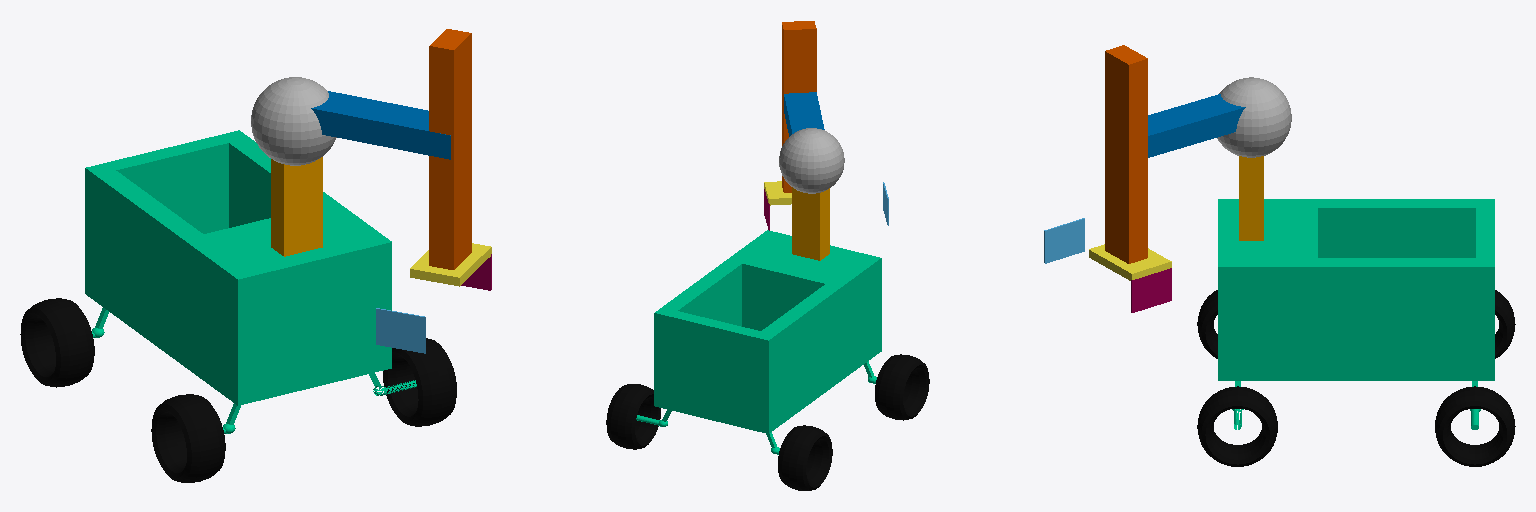
robot.urdf — probando:
<?xml version="1.0"?>
<!-- created with Phobos 1.0.1 "Capricious Choutengan" -->
  <robot name="probando">

    <link name="Barra_principal">
      <inertial>
        <origin xyz="0 0 -0.5" rpy="0 0 0"/>
        <mass value="30.0"/>
        <inertia ixx="0.001" ixy="0" ixz="0" iyy="0.001" iyz="0" izz="0.001"/>
      </inertial>
      <visual name="Cube.001">
        <origin xyz="0 0 -0.11" rpy="0 0 0"/>
        <geometry>
          <box size="0.5 0.3 2.41"/>
        </geometry>
      </visual>
      <collision name="Cube.001">
        <origin xyz="0 0 -0.1" rpy="0 0 0"/>
        <geometry>
          <box size="0.5 0.3 2.41"/>
        </geometry>
      </collision>
    </link>

    <link name="Pinza_L">
      <inertial>
        <origin xyz="0 0 -0.03" rpy="0 0 0"/>
        <mass value="15.51"/>
        <inertia ixx="0.001" ixy="0" ixz="0" iyy="0.001" iyz="0" izz="0.001"/>
      </inertial>
      <visual name="Cube.005">
        <origin xyz="0 0 0" rpy="0 0 0"/>
        <geometry>
          <box size="0.45 0.61 0.02"/>
        </geometry>
      </visual>
      <collision name="Cube.005">
        <origin xyz="0 0 0" rpy="3.14159 0 0"/>
        <geometry>
          <box size="0.45 0.61 0.02"/>
        </geometry>
      </collision>
    </link>

    <link name="Pinza_R">
      <inertial>
        <origin xyz="0 0 0.15" rpy="0 0 0"/>
        <mass value="15.51"/>
        <inertia ixx="0.001" ixy="0" ixz="0" iyy="0.001" iyz="0" izz="0.001"/>
      </inertial>
      <visual name="Cube">
        <origin xyz="0 0 0" rpy="0 0 0"/>
        <geometry>
          <box size="0.45 0.61 0.02"/>
        </geometry>
        <material name="Material.002"/>
      </visual>
      <collision name="Cube">
        <origin xyz="0 0 0" rpy="0 0 0"/>
        <geometry>
          <box size="0.45 0.61 0.02"/>
        </geometry>
      </collision>
    </link>

    <link name="Untitled.002">
      <inertial>
        <origin xyz="0 0 0" rpy="0 0 0"/>
        <mass value="0.001"/>
        <inertia ixx="0.001" ixy="0" ixz="0" iyy="0.001" iyz="0" izz="0.001"/>
      </inertial>
      <visual name="Cube.004">
        <origin xyz="0 0 0" rpy="0 0 0"/>
        <geometry>
          <box size="0.9 0.61 0.11"/>
        </geometry>
      </visual>
      <collision name="Cube.004">
        <origin xyz="0 0 0" rpy="0 0 0"/>
        <geometry>
          <box size="0.9 0.61 0.11"/>
        </geometry>
      </collision>
    </link>

    <link name="barra_gira">
      <inertial>
        <origin xyz="0 0 0" rpy="0 0 0"/>
        <mass value="30.0"/>
        <inertia ixx="0.001" ixy="0" ixz="0" iyy="0.001" iyz="0" izz="0.001"/>
      </inertial>
      <visual name="Cube.002">
        <origin xyz="-0.90353 0 0" rpy="0 -1.5708 0"/>
        <geometry>
          <box size="0.5 0.30001 2.17"/>
        </geometry>
      </visual>
      <collision name="Cube.002">
        <origin xyz="-0.90353 0 0" rpy="0 -1.5708 0"/>
        <geometry>
          <box size="0.5 0.3 2.17"/>
        </geometry>
      </collision>
    </link>

    <link name="barra_pinza">
      <inertial>
        <origin xyz="0 0 0.15" rpy="0 0 0"/>
        <mass value="20.0"/>
        <inertia ixx="0.001" ixy="0" ixz="0" iyy="0.001" iyz="0" izz="0.001"/>
      </inertial>
      <visual name="Cube.003">
        <origin xyz="-0.05 -0.03 0.66272" rpy="0 0 0"/>
        <geometry>
          <box size="0.5 0.3 2.74"/>
        </geometry>
      </visual>
      <collision name="Cube.003">
        <origin xyz="-0.05 -0.03 0.66272" rpy="0 0 0"/>
        <geometry>
          <box size="0.5 0.3 2.7"/>
        </geometry>
      </collision>
    </link>

    <link name="coche">
      <inertial>
        <origin xyz="0 0 -0.0021" rpy="0 0 0"/>
        <mass value="10000.0"/>
        <inertia ixx="114.54339" ixy="2.59267" ixz="-7.60408" iyy="45.98467" iyz="7.01369" izz="128.17601"/>
      </inertial>
      <visual name="car">
        <origin xyz="0 0 0" rpy="0 0 0"/>
        <geometry>
          <mesh filename="../meshes/dae/Cube.dae" scale="1.0 1.715 0.78246"/>
        </geometry>
        <material name="Material"/>
      </visual>
      <collision name="car.000">
        <origin xyz="0 0 -0.0021" rpy="0 0 0"/>
        <geometry>
          <mesh filename="../meshes/dae/Cube.016.dae" scale="1.0 1.0 1.0"/>
        </geometry>
      </collision>
    </link>

    <link name="esfera">
      <inertial>
        <origin xyz="0 0 0" rpy="0 0 0"/>
        <mass value="30.0"/>
        <inertia ixx="0.001" ixy="0" ixz="0" iyy="0.001" iyz="0" izz="0.001"/>
      </inertial>
      <visual name="Sphere">
        <origin xyz="0 0 0" rpy="0 0 0"/>
        <geometry>
          <mesh filename="../meshes/dae/Sphere.dae" scale="0.5 0.5 0.5"/>
        </geometry>
      </visual>
      <collision name="Sphere">
        <origin xyz="0 0 0" rpy="0 0 0"/>
        <geometry>
          <sphere radius="0.5"/>
        </geometry>
      </collision>
    </link>

    <link name="rueda1">
      <inertial>
        <origin xyz="0 0 0" rpy="0 0 0"/>
        <mass value="10.0"/>
        <inertia ixx="0.18726" ixy="0" ixz="0" iyy="0.09682" iyz="0" izz="3.78202"/>
      </inertial>
      <visual name="rueda3.001">
        <origin xyz="0 0 0" rpy="0 0 0"/>
        <geometry>
          <mesh filename="../meshes/dae/Torus.007.dae" scale="0.4 0.4 1.0"/>
        </geometry>
        <material name="rueda"/>
      </visual>
      <collision name="rueda3.001.000">
        <origin xyz="0 0 0" rpy="0 0 0"/>
        <geometry>
          <mesh filename="../meshes/dae/Torus.001.dae" scale="1.0 1.0 1.0"/>
        </geometry>
      </collision>
    </link>

    <link name="rueda2">
      <inertial>
        <origin xyz="0 0 0" rpy="0 0 0"/>
        <mass value="10.0"/>
        <inertia ixx="1.17034" ixy="0" ixz="0" iyy="0.70986" iyz="0" izz="0.70986"/>
      </inertial>
      <visual name="rueda4.001">
        <origin xyz="0 0 0" rpy="0 0 0"/>
        <geometry>
          <mesh filename="../meshes/dae/Torus.008.dae" scale="0.4 0.4 1.0"/>
        </geometry>
        <material name="rueda"/>
      </visual>
      <collision name="rueda4.001.000">
        <origin xyz="0 0 0" rpy="0 0 0"/>
        <geometry>
          <mesh filename="../meshes/dae/Torus.000.dae" scale="1.0 1.0 1.0"/>
        </geometry>
      </collision>
    </link>

    <link name="rueda3">
      <inertial>
        <origin xyz="0 0 0" rpy="0 0 0"/>
        <mass value="10.0"/>
        <inertia ixx="1.17034" ixy="0" ixz="0" iyy="0.70986" iyz="0" izz="0.70986"/>
      </inertial>
      <visual name="rueda2.001">
        <origin xyz="0 0 0" rpy="0 0 0"/>
        <geometry>
          <mesh filename="../meshes/dae/Torus.003.dae" scale="0.4 0.4 1.0"/>
        </geometry>
        <material name="rueda"/>
      </visual>
      <collision name="rueda2.001.000">
        <origin xyz="0 0 0" rpy="0 0 0"/>
        <geometry>
          <mesh filename="../meshes/dae/Torus.004.dae" scale="1.0 1.0 1.0"/>
        </geometry>
      </collision>
    </link>

    <link name="rueda4">
      <inertial>
        <origin xyz="0 0 0" rpy="0 0 0"/>
        <mass value="10.0"/>
        <inertia ixx="1.17034" ixy="0" ixz="0" iyy="0.70986" iyz="0" izz="0.70986"/>
      </inertial>
      <visual name="rueda1.001">
        <origin xyz="0 0 0" rpy="0 0 0"/>
        <geometry>
          <mesh filename="../meshes/dae/Torus.006.dae" scale="0.4 0.4 1.0"/>
        </geometry>
        <material name="rueda"/>
      </visual>
      <collision name="rueda1.001.000">
        <origin xyz="0 0 0" rpy="0 0 0"/>
        <geometry>
          <mesh filename="../meshes/dae/Torus.002.dae" scale="1.0 1.0 1.0"/>
        </geometry>
      </collision>
    </link>

    <joint name="Barra_principal" type="prismatic">
      <origin xyz="0 -1.3 1.50313" rpy="0 0 0"/>
      <parent link="coche"/>
      <child link="Barra_principal"/>
      <axis xyz="0 0 1.0"/>
      <limit lower="-0.82" upper="0.5" effort="0" velocity="0"/>
    </joint>

    <joint name="Pinza_L" type="prismatic">
      <origin xyz="-0.39871 0.01611 -0.26543" rpy="3.14159 1.5708 0"/>
      <parent link="Untitled.002"/>
      <child link="Pinza_L"/>
      <axis xyz="0 0 1.0"/>
      <limit lower="1.92" upper="0.03" effort="0" velocity="0"/>
    </joint>

    <joint name="Pinza_R" type="prismatic">
      <origin xyz="0.44 0 -0.26" rpy="0 1.5708 0"/>
      <parent link="Untitled.002"/>
      <child link="Pinza_R"/>
      <axis xyz="0 0 1.0"/>
      <limit lower="-0.15" upper="0" effort="0" velocity="0"/>
    </joint>

    <joint name="Untitled.002" type="floating">
      <origin xyz="0 -0.01222 -0.7498" rpy="0 0 0"/>
      <parent link="barra_pinza"/>
      <child link="Untitled.002"/>
    </joint>

    <joint name="barra_gira" type="fixed">
      <origin xyz="0.03695 -0.02274 0.17047" rpy="1.5708 0 2.18414"/>
      <parent link="esfera"/>
      <child link="barra_gira"/>
    </joint>

    <joint name="barra_pinza" type="prismatic">
      <origin xyz="-1.83756 -0.82282 0.05342" rpy="-1.5708 -1.54235 0"/>
      <parent link="barra_gira"/>
      <child link="barra_pinza"/>
      <axis xyz="0 0 1.0"/>
      <limit lower="-1.17" upper="0.9" effort="0" velocity="0"/>
    </joint>

    <joint name="esfera" type="continuous">
      <origin xyz="-0.01713 0.0009 0.84188" rpy="0 0 0"/>
      <parent link="Barra_principal"/>
      <child link="esfera"/>
      <axis xyz="0 0 1.0"/>
      <limit effort="0" velocity="0"/>
    </joint>

    <joint name="rueda1" type="continuous">
      <origin xyz="1.5 1.47 -1.17" rpy="0 1.5708 0"/>
      <parent link="coche"/>
      <child link="rueda1"/>
      <axis xyz="0 0 1.0"/>
      <limit effort="0" velocity="0"/>
    </joint>

    <joint name="rueda2" type="continuous">
      <origin xyz="1.5 -1.47 -1.17" rpy="0 1.5708 0"/>
      <parent link="coche"/>
      <child link="rueda2"/>
      <axis xyz="0 0 1.0"/>
      <limit effort="0" velocity="0"/>
    </joint>

    <joint name="rueda3" type="continuous">
      <origin xyz="-1.5 1.47 -1.17" rpy="0 1.5708 0"/>
      <parent link="coche"/>
      <child link="rueda3"/>
      <axis xyz="0 0 1.0"/>
      <limit effort="0" velocity="0"/>
    </joint>

    <joint name="rueda4" type="continuous">
      <origin xyz="-1.5 -1.47 -1.17" rpy="0 1.5708 0"/>
      <parent link="coche"/>
      <child link="rueda4"/>
      <axis xyz="0 0 1.0"/>
      <limit effort="0" velocity="0"/>
    </joint>

    <material name="Material">
      <color rgba="0 0.8 0.58463 1.0"/>
    </material>

    <material name="Material.002">
      <color rgba="0.64 0.0277 0.35646 1.0"/>
    </material>

    <material name="rueda">
      <color rgba="0.08037 0.08037 0.08037 1.0"/>
    </material>

  </robot>

--- Render facts (derived) ---
Views: 3 orthographic renders of the robot side by side, from view 1: azimuth 30°, elevation 25°; view 2: azimuth 150°, elevation 25°; view 3: azimuth 270°, elevation 25°.
Model probando with 12 links and 11 joints (5 continuous, 4 prismatic, 1 fixed, 1 floating), rooted at coche, posed all joints at 0 but 1 set to mid-range because 0 is outside their limits (Pinza_L = 0.975).
Visible links, largest first — view 1: coche, barra_pinza, esfera, barra_gira, rueda4, rueda3, rueda2, Barra_principal, Pinza_L, Untitled.002, Pinza_R; view 2: coche, esfera, rueda3, rueda4, barra_pinza, rueda1, Barra_principal, barra_gira; view 3: coche, barra_pinza, esfera, rueda2, rueda1, barra_gira, Barra_principal, Pinza_L, Untitled.002, Pinza_R, rueda4, rueda3.
Boxes of the visible links, left/top/right/bottom form: coche: left=85, top=130, right=416, bottom=433; barra_pinza: left=429, top=29, right=471, bottom=269; esfera: left=251, top=77, right=336, bottom=165; barra_gira: left=311, top=91, right=450, bottom=159; rueda4: left=151, top=394, right=225, bottom=482; rueda3: left=20, top=298, right=94, bottom=387; rueda2: left=383, top=338, right=456, bottom=426; Barra_principal: left=271, top=157, right=322, bottom=256; Pinza_L: left=376, top=308, right=425, bottom=353; Untitled.002: left=410, top=243, right=491, bottom=286; Pinza_R: left=461, top=254, right=491, bottom=290; coche: left=636, top=230, right=881, bottom=454; esfera: left=779, top=128, right=844, bottom=193; rueda3: left=778, top=425, right=832, bottom=490; rueda4: left=875, top=354, right=929, bottom=420; barra_pinza: left=782, top=21, right=816, bottom=192; rueda1: left=606, top=384, right=660, bottom=449; Barra_principal: left=792, top=187, right=829, bottom=260; barra_gira: left=784, top=92, right=824, bottom=136; coche: left=1218, top=199, right=1494, bottom=429; barra_pinza: left=1105, top=45, right=1147, bottom=263; esfera: left=1217, top=77, right=1291, bottom=157; rueda2: left=1197, top=386, right=1277, bottom=466; rueda1: left=1435, top=386, right=1515, bottom=466; barra_gira: left=1148, top=94, right=1245, bottom=157; Barra_principal: left=1239, top=156, right=1263, bottom=240; Pinza_L: left=1044, top=218, right=1084, bottom=263; Untitled.002: left=1089, top=244, right=1171, bottom=280; Pinza_R: left=1131, top=268, right=1171, bottom=312; rueda4: left=1197, top=290, right=1217, bottom=358; rueda3: left=1495, top=290, right=1515, bottom=358.
Size in the robot's own frame: 3.5 by 5.83 by 5.4 metres.
Meshes: 6 distinct files referenced, 6 mesh visuals loaded (6 Collada DAE).